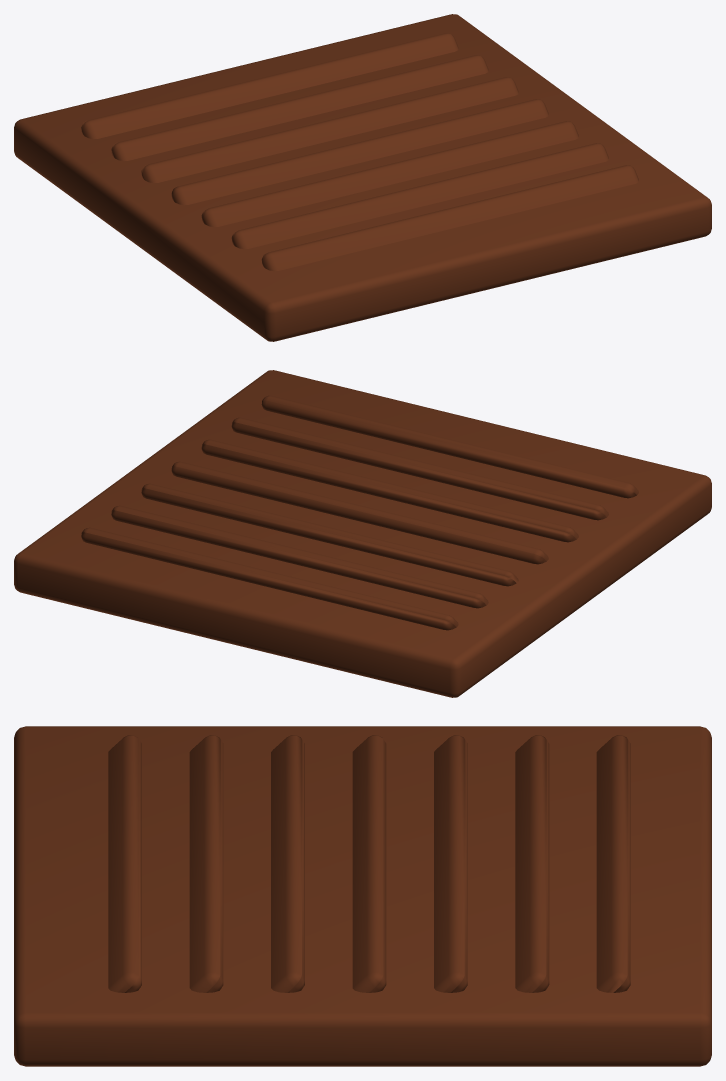
The model's file is BB_PROP_VentGrille.obj.
3 views of the same model, one above another, from view 1: azimuth 30°, elevation 25°; view 2: azimuth 150°, elevation 25°; view 3: azimuth 270°, elevation 25° (orthographic). The views are drawn at different scales.
Visible parts, largest first — view 1: BB_PROP_VentGrille; view 2: BB_PROP_VentGrille; view 3: BB_PROP_VentGrille.
Boxes of the visible parts, bbox=[...] form: BB_PROP_VentGrille: bbox=[14, 14, 711, 341]; BB_PROP_VentGrille: bbox=[14, 370, 711, 697]; BB_PROP_VentGrille: bbox=[14, 726, 711, 1066].
Size of the model in its own units: 0.6 by 0.0651 by 0.6.
